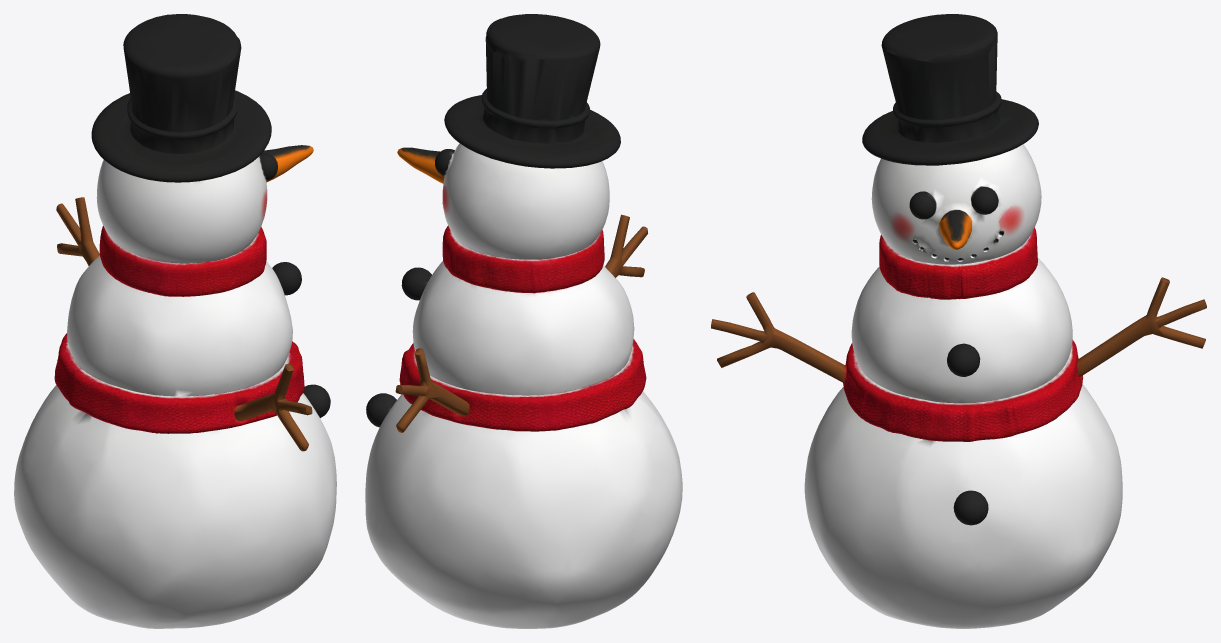
The model's file is snowman.glb.
3 renders of one model, left to right at view 1: azimuth 30°, elevation 25°; view 2: azimuth 150°, elevation 25°; view 3: azimuth 270°, elevation 25°, orthographic.
Parts seen in each view (by area): view 1: tripo_node_b081bfa8-fc8a-4866-b154-d6a356cc7bde; view 2: tripo_node_b081bfa8-fc8a-4866-b154-d6a356cc7bde; view 3: tripo_node_b081bfa8-fc8a-4866-b154-d6a356cc7bde.
Part boxes in pixels (left/top/right/bottom): tripo_node_b081bfa8-fc8a-4866-b154-d6a356cc7bde: left=14, top=14, right=336, bottom=628; tripo_node_b081bfa8-fc8a-4866-b154-d6a356cc7bde: left=365, top=14, right=682, bottom=628; tripo_node_b081bfa8-fc8a-4866-b154-d6a356cc7bde: left=711, top=14, right=1206, bottom=628.
Size of the model in its own units: 0.7015 by 1.3 by 1.04.
1 material, 1 textured.
